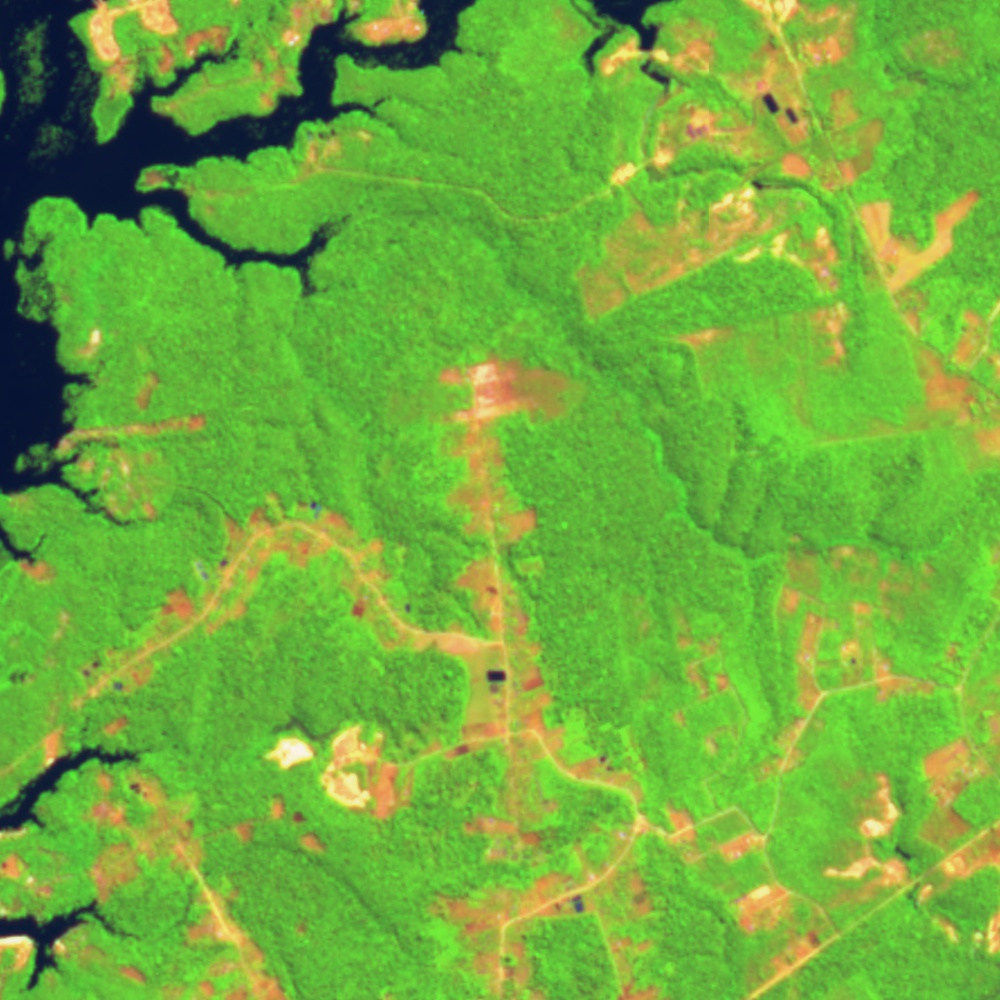legal: (570, 164, 854, 368), (589, 1, 885, 187), (87, 766, 302, 1000), (441, 342, 573, 627), (208, 490, 434, 656), (440, 845, 662, 1000), (774, 536, 964, 708), (439, 625, 573, 841), (26, 408, 211, 526), (243, 1, 431, 114), (127, 125, 387, 203), (893, 289, 1000, 476), (923, 712, 1000, 952), (271, 711, 441, 816), (79, 1, 244, 109), (72, 581, 200, 716), (650, 602, 753, 755), (854, 187, 983, 289), (730, 878, 838, 989), (820, 768, 912, 897), (649, 799, 774, 864), (880, 20, 966, 105), (1, 858, 72, 960), (25, 716, 133, 769), (6, 605, 67, 695), (230, 798, 328, 852), (573, 747, 648, 817), (761, 715, 826, 784), (15, 549, 66, 584), (75, 318, 106, 373), (135, 363, 164, 414), (1, 816, 43, 840)
